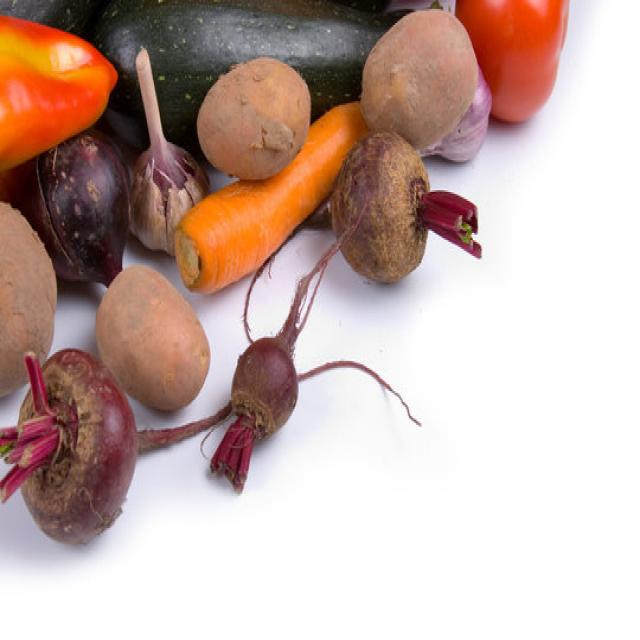Beetroot: (0, 345, 139, 544), (328, 128, 481, 284), (20, 128, 130, 286), (220, 335, 312, 437)
Bottle Gourd: (86, 0, 410, 149)
Carrot: (173, 100, 369, 295)
Eggplant: (0, 0, 108, 37)
Garlic: (128, 46, 209, 256)
Onion: (418, 62, 492, 164), (384, 0, 455, 14)
Tomato: (0, 12, 117, 172), (455, 0, 569, 123)
